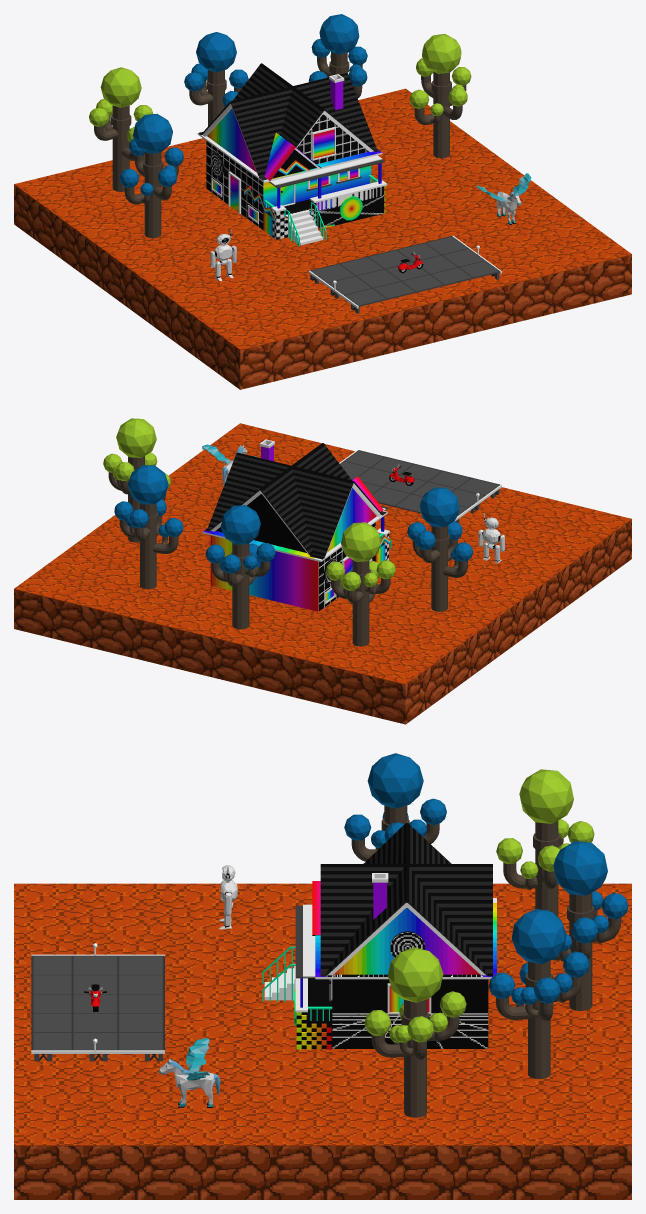
The picture shows the model from 3 angles, top to bottom: view 1: azimuth 30°, elevation 25°; view 2: azimuth 150°, elevation 25°; view 3: azimuth 270°, elevation 25°; orthographic projection. The views are drawn at different scales.
Visible parts, largest first — view 1: Cube.001, Cube.1320, ANIMAL_PEGASO, OBJRANDOM_PLATZEEBOT; view 2: Cube.001, Cube.1320, OBJRANDOM_PLATZEEBOT, ANIMAL_PEGASO; view 3: Cube.001, Cube.1320, ANIMAL_PEGASO, OBJRANDOM_PLATZEEBOT.
Part boxes in pixels (x1,y1,x2,y2): Cube.001: (14,14,631,389); Cube.1320: (197,63,387,246); ANIMAL_PEGASO: (476,173,531,224); OBJRANDOM_PLATZEEBOT: (210,229,236,281); Cube.001: (14,418,631,724); Cube.1320: (202,439,391,611); OBJRANDOM_PLATZEEBOT: (478,513,504,563); ANIMAL_PEGASO: (202,444,256,487); Cube.001: (14,753,631,1199); Cube.1320: (262,823,496,1049); ANIMAL_PEGASO: (159,1038,220,1107); OBJRANDOM_PLATZEEBOT: (218,865,237,929).
Bounding box in the file's own units: 4000 × 1816 × 4000.
Materials: 32 (6 with a texture image).
